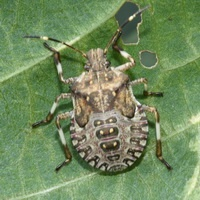insect: (23, 2, 171, 171)
